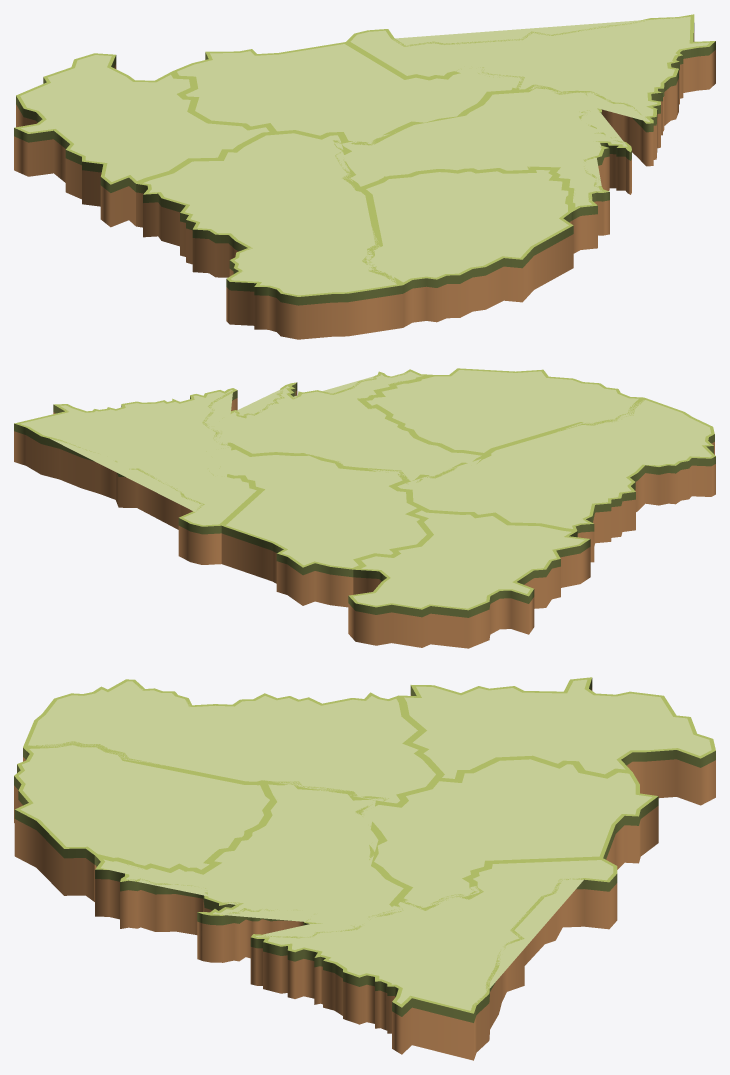
Rendered from Island5.fbx.
3 renders of one model, top to bottom at view 1: azimuth 30°, elevation 25°; view 2: azimuth 150°, elevation 25°; view 3: azimuth 270°, elevation 25°, orthographic. The views are drawn at different scales.
Parts seen in each view (by area): view 1: Island5.002, Island5.005, Island5.006, Island5.001, Island5.004, Island5.003; view 2: Island5.002, Island5.001, Island5.006, Island5.003, Island5.005, Island5.004; view 3: Island5.006, Island5.002, Island5.004, Island5.003, Island5.005, Island5.001.
Boxes of the visible parts, x1=… form: Island5.002: x1=136, y1=131, x2=403, y2=339; Island5.005: x1=359, y1=168, x2=573, y2=327; Island5.006: x1=346, y1=14, x2=715, y2=166; Island5.001: x1=14, y1=53, x2=274, y2=227; Island5.004: x1=337, y1=87, x2=631, y2=253; Island5.003: x1=172, y1=42, x2=515, y2=143; Island5.002: x1=393, y1=397, x2=715, y2=562; Island5.001: x1=348, y1=508, x2=590, y2=648; Island5.006: x1=14, y1=388, x2=260, y2=564; Island5.003: x1=219, y1=448, x2=430, y2=607; Island5.005: x1=361, y1=368, x2=643, y2=454; Island5.004: x1=214, y1=369, x2=487, y2=482; Island5.006: x1=250, y1=858, x2=617, y2=1060; Island5.002: x1=23, y1=679, x2=440, y2=805; Island5.004: x1=94, y1=782, x2=407, y2=962; Island5.003: x1=359, y1=757, x2=658, y2=908; Island5.005: x1=14, y1=743, x2=274, y2=901; Island5.001: x1=399, y1=677, x2=715, y2=805.
Bounding box in the file's own units: 384 × 25 × 339.
